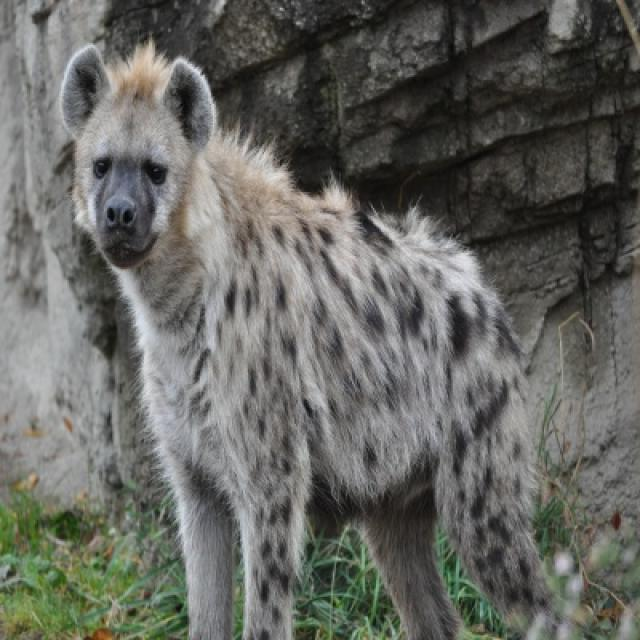hyena: (56, 43, 554, 638)
